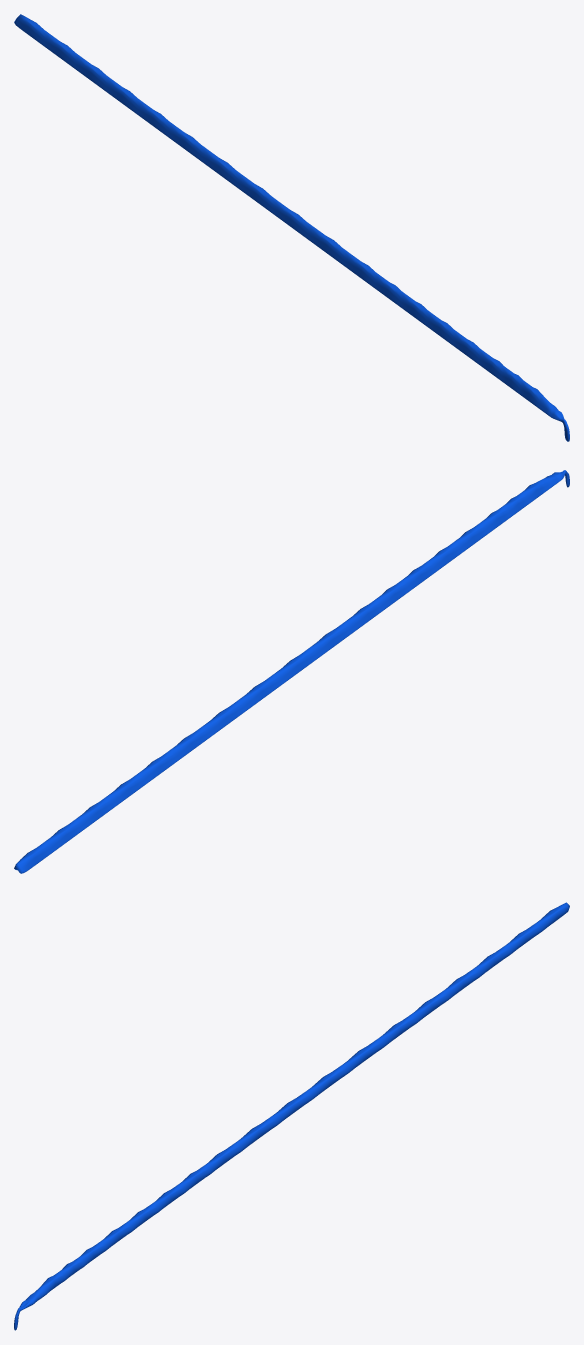
File: Cascada.fbx
The picture shows the model from 3 angles, top to bottom: view 1: azimuth 30°, elevation 25°; view 2: azimuth 150°, elevation 25°; view 3: azimuth 330°, elevation 25°; orthographic projection.
Parts seen in each view (by area): view 1: Cylinder; view 2: Cylinder; view 3: Cylinder.
Part boxes in pixels (x1,y1,x2,y2): Cylinder: (14,14,569,441); Cylinder: (14,470,569,873); Cylinder: (14,902,569,1330).
Size of the model in its own units: 1133 by 2946 by 106909.
